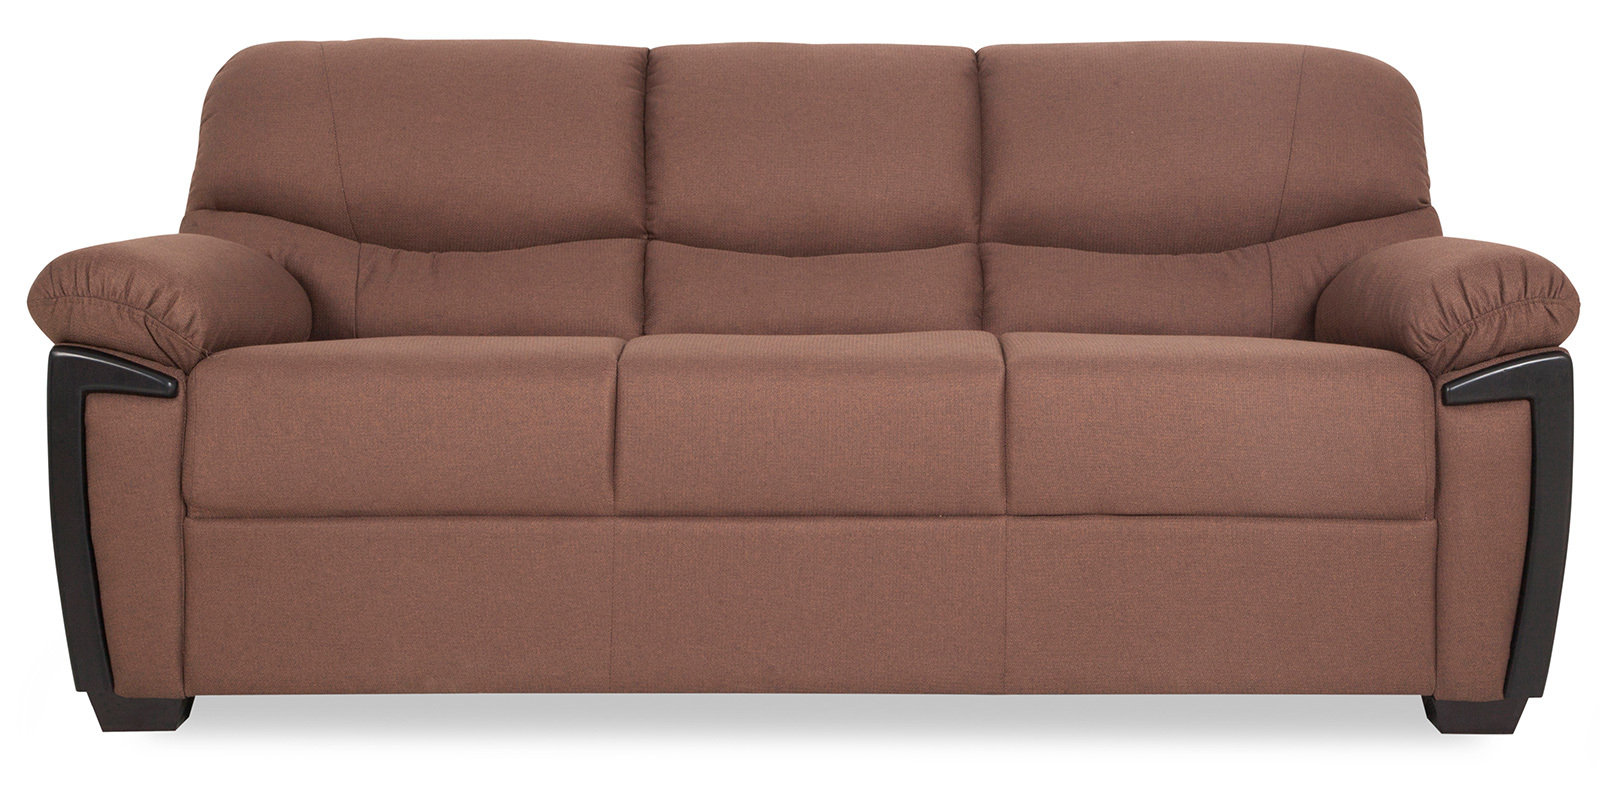Memphis Monarch Three Seater Sofa in Dark Brown Colour by Urban Living: (26, 36, 1584, 734)
